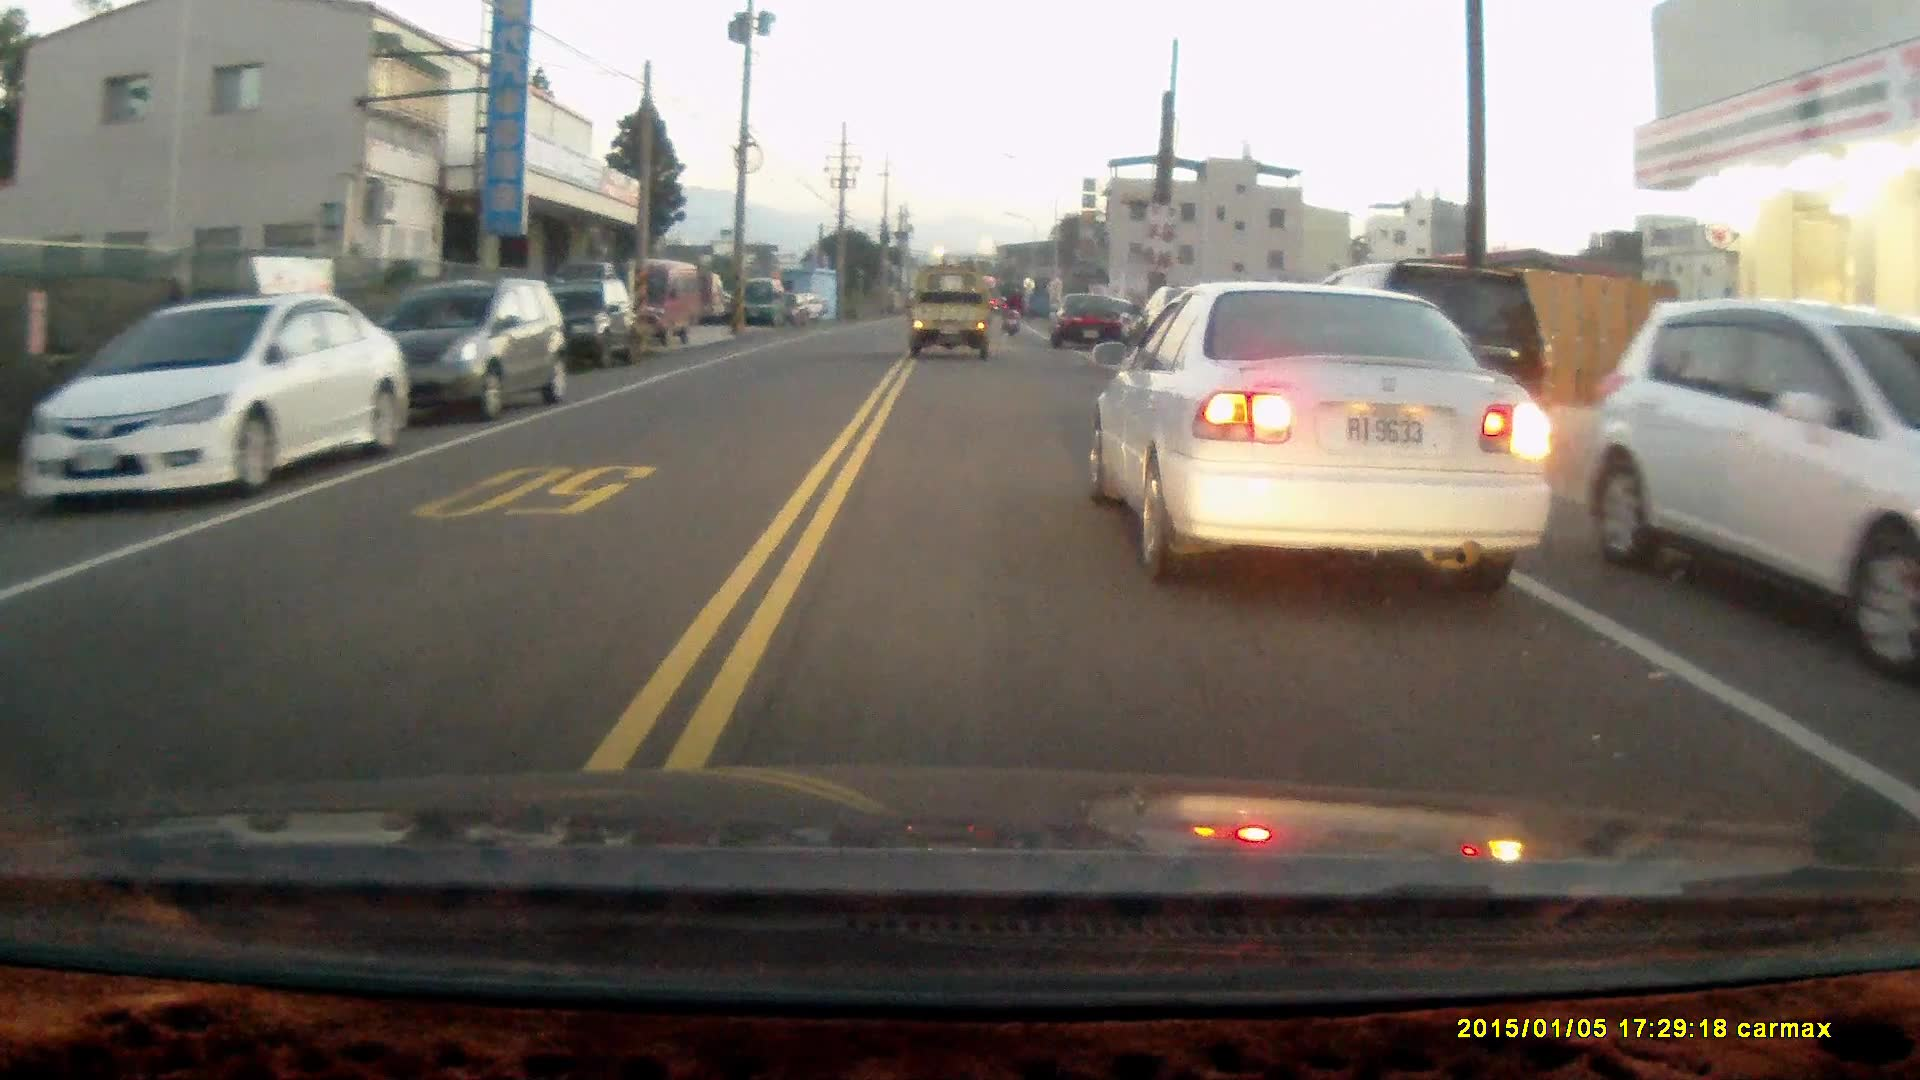rider: (1000, 283, 1027, 331)
vehicle: (1082, 275, 1549, 578), (1590, 299, 1920, 671), (26, 288, 413, 507), (1313, 260, 1550, 481), (347, 272, 567, 418), (906, 263, 996, 365), (609, 258, 714, 344), (549, 280, 640, 370), (1053, 290, 1133, 349)
